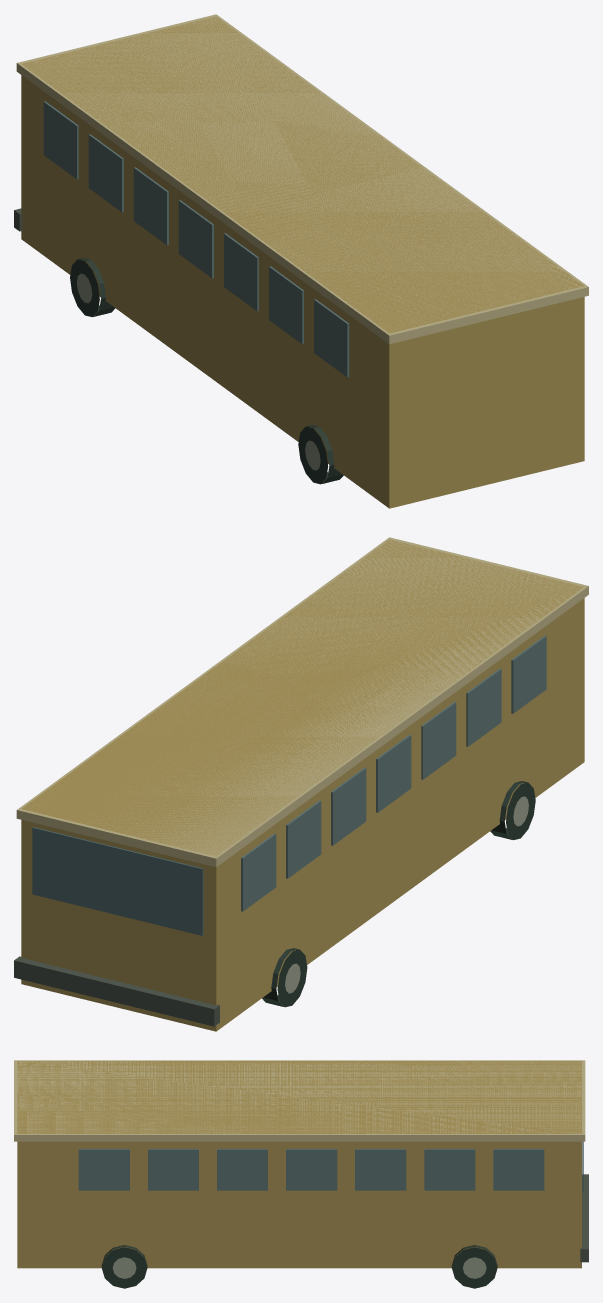
Rendered from small-morning-clover-bus-v1.glb.
3 views of the same model, one above another, from view 1: azimuth 30°, elevation 25°; view 2: azimuth 150°, elevation 25°; view 3: azimuth 270°, elevation 25° (orthographic). The views are drawn at different scales.
Visible parts, largest first — view 1: plain; view 2: plain; view 3: plain.
Part boxes in pixels (x1,y1,x2,y2): plain: (14, 14, 588, 508); plain: (14, 537, 588, 1031); plain: (14, 1060, 588, 1288).
Bounding box in the file's own units: 2.78 × 2.53 × 8.66.
